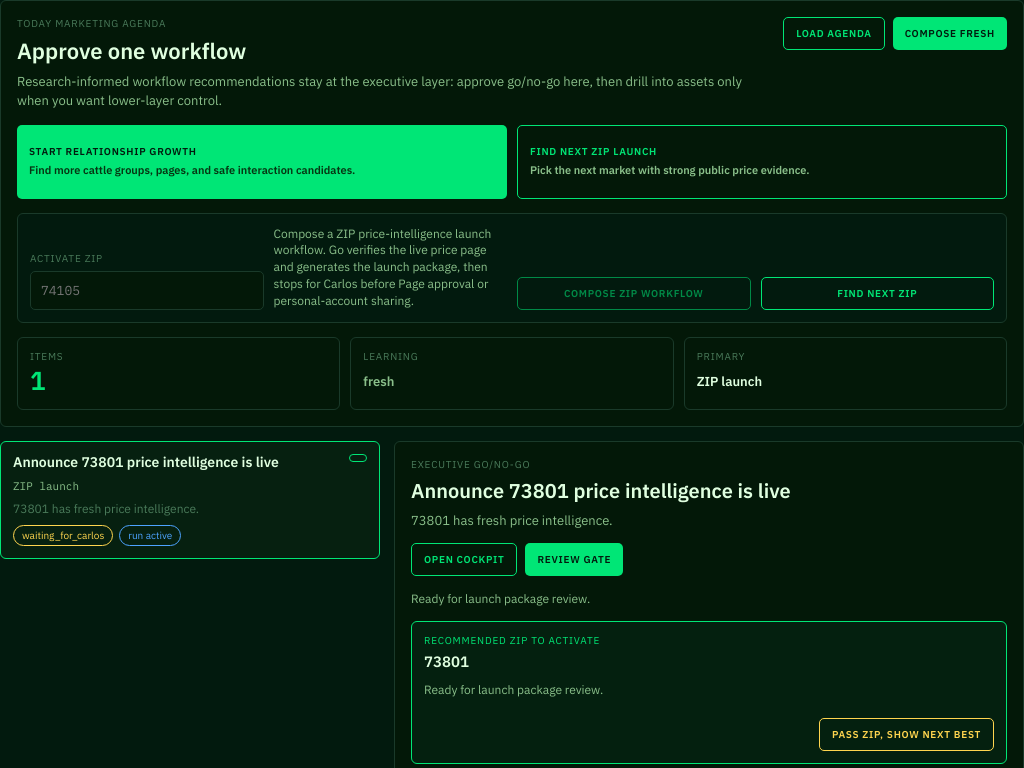
Test case: TodayAgendaWorkspace launch package review › shows stale ZIP generator rejection inside the workflow modal
This screenshot has width=1024, height=768.
What coordinates should you click on to do the following:
click the button "Review gate"
I would click on:
 (574, 559)
Its box is [526, 542, 623, 576].
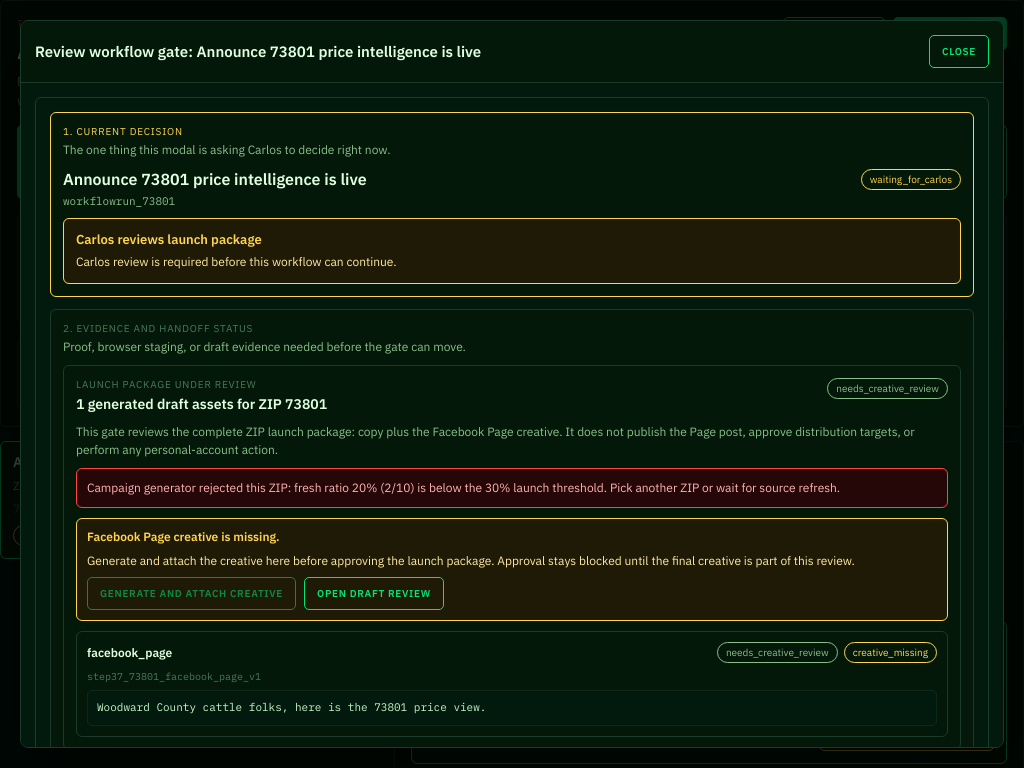
Now the message shows "fresh ratio 20% (2/10) is below the 30% launch threshold", box [87, 480, 840, 495]
Now the button "Generate and attach creative" is disabled, box [87, 577, 296, 610]
